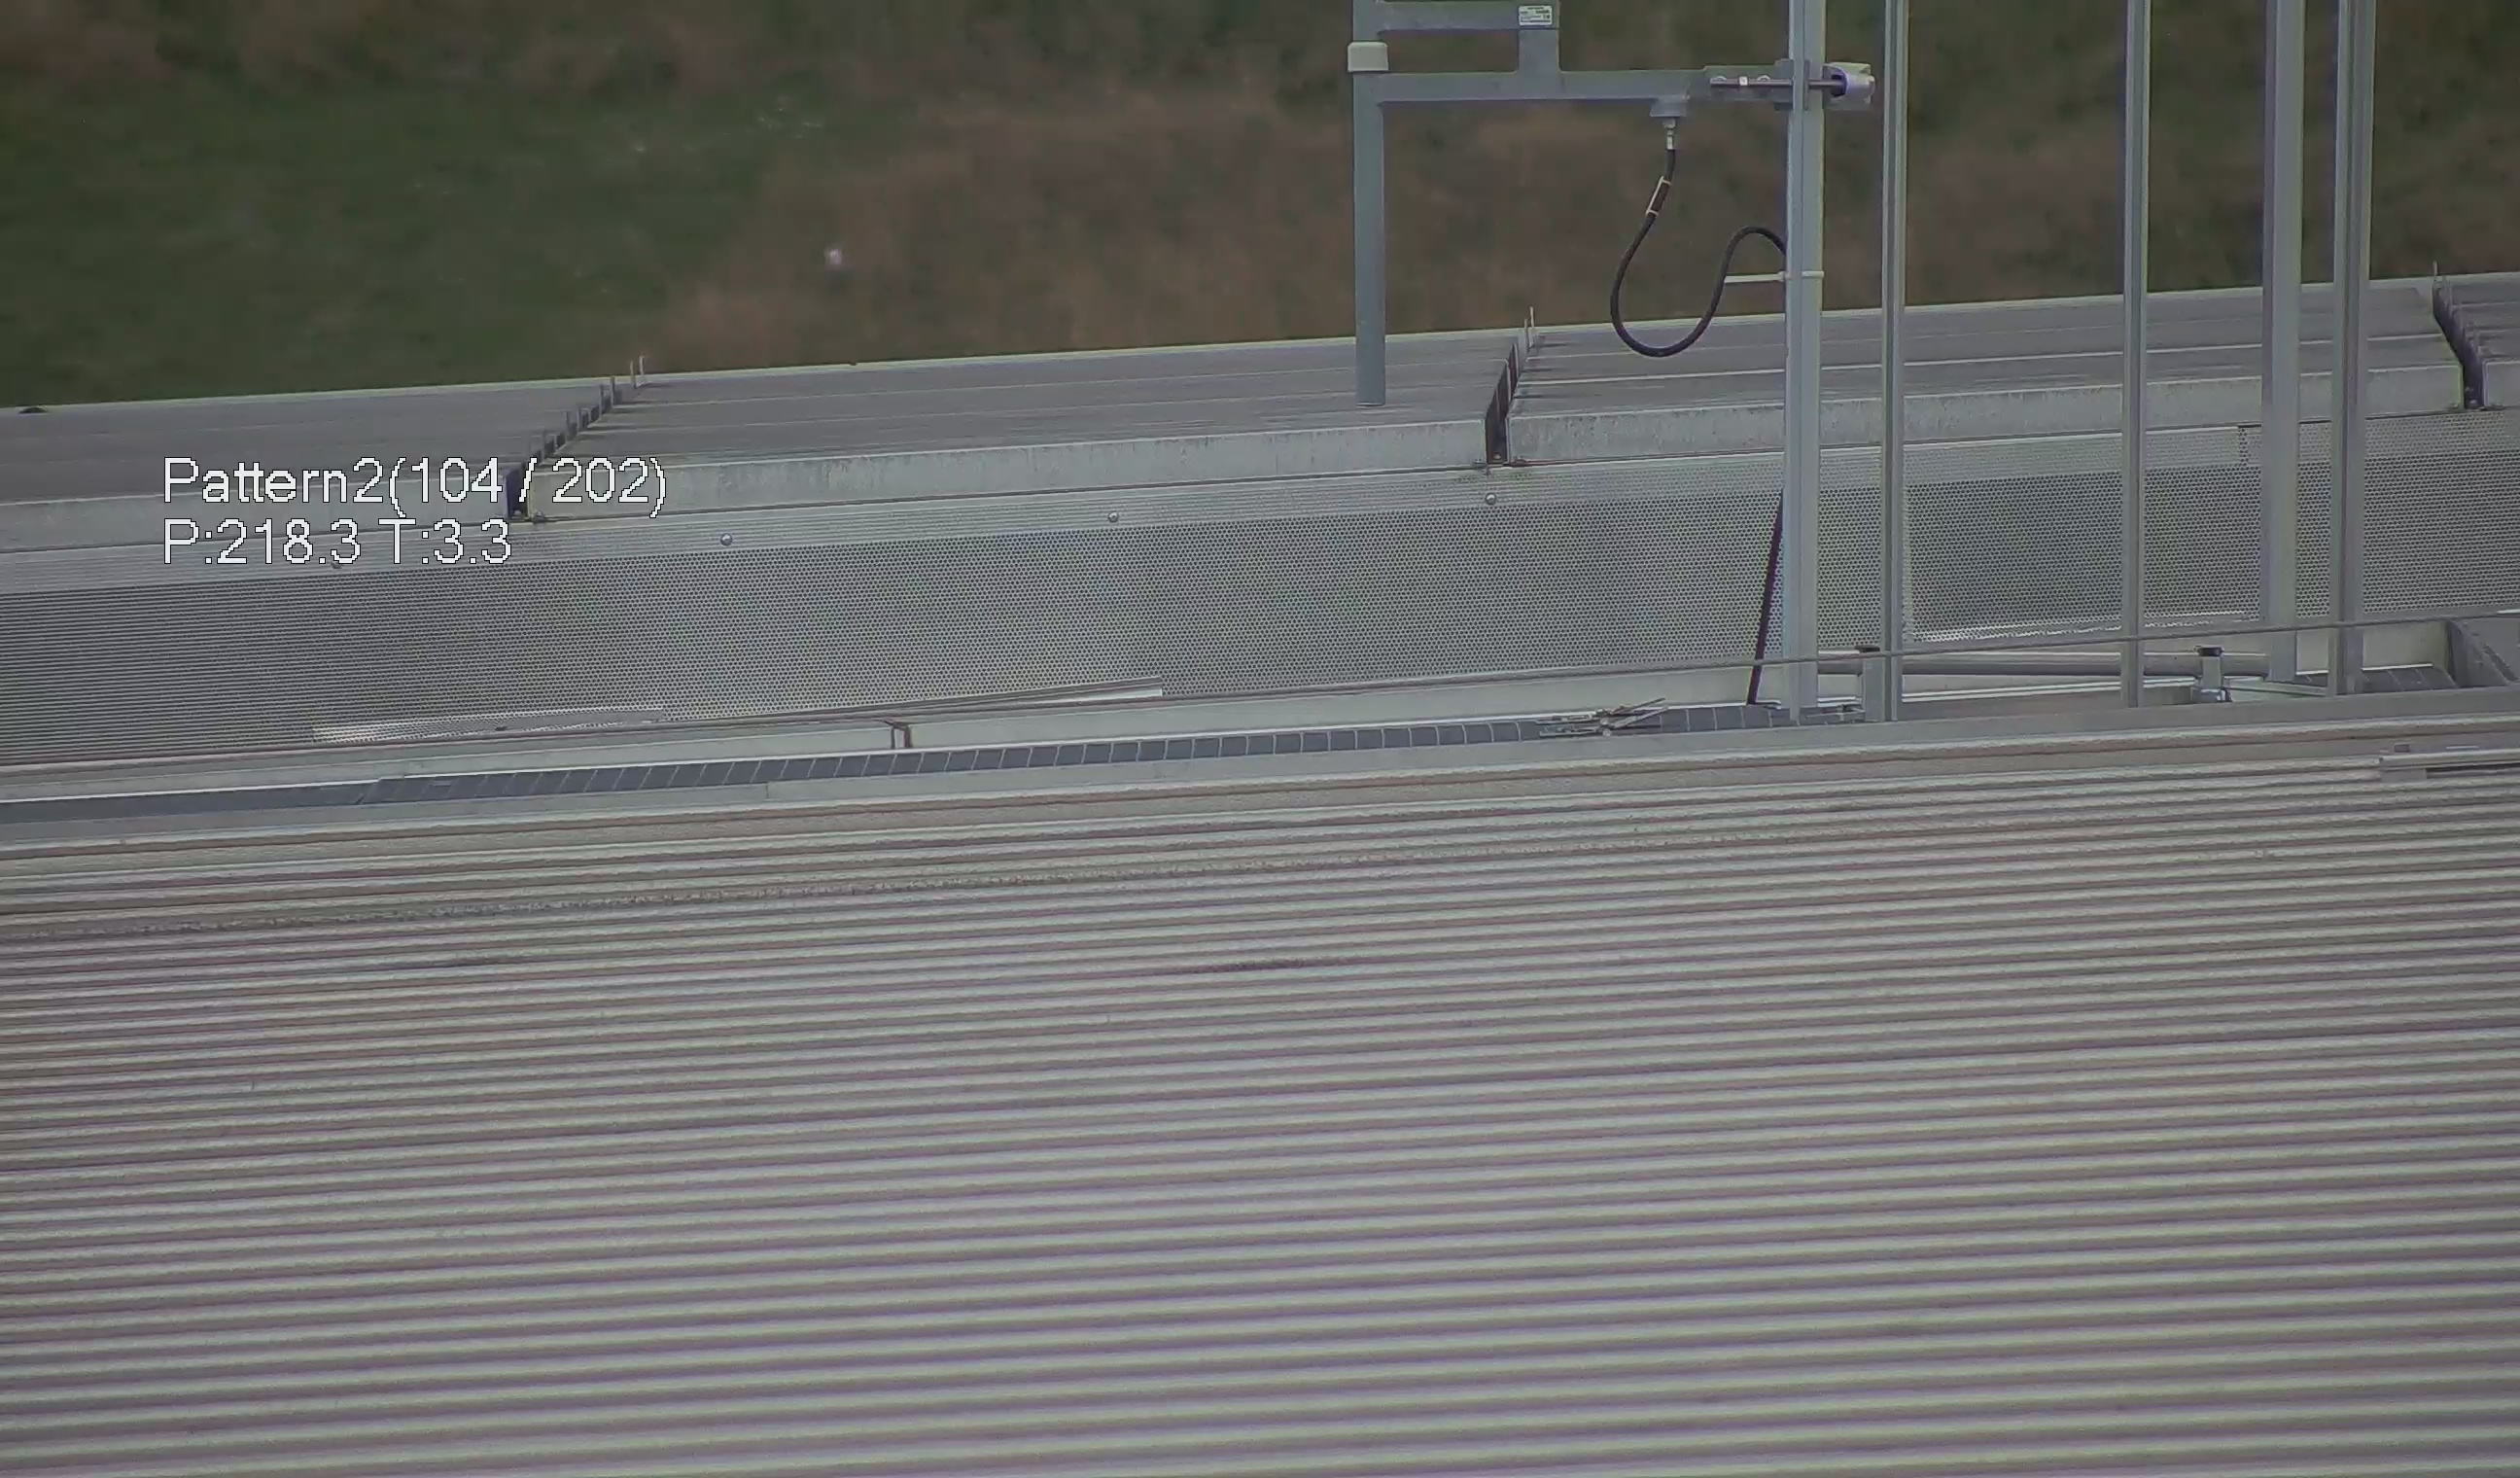Other: (2425, 262, 2513, 421)
